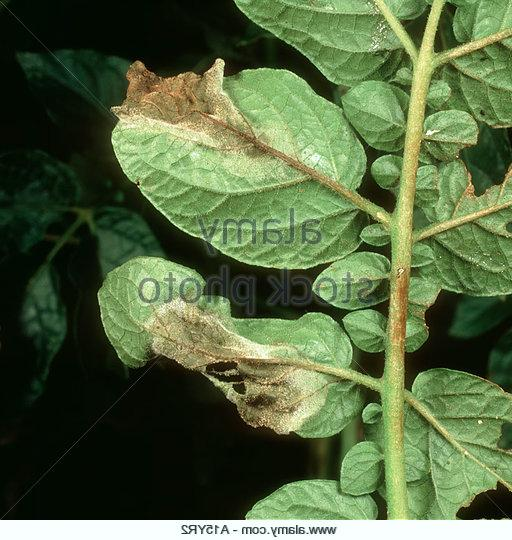Tomato leaf late blight: (99, 53, 368, 271), (89, 250, 373, 440)
